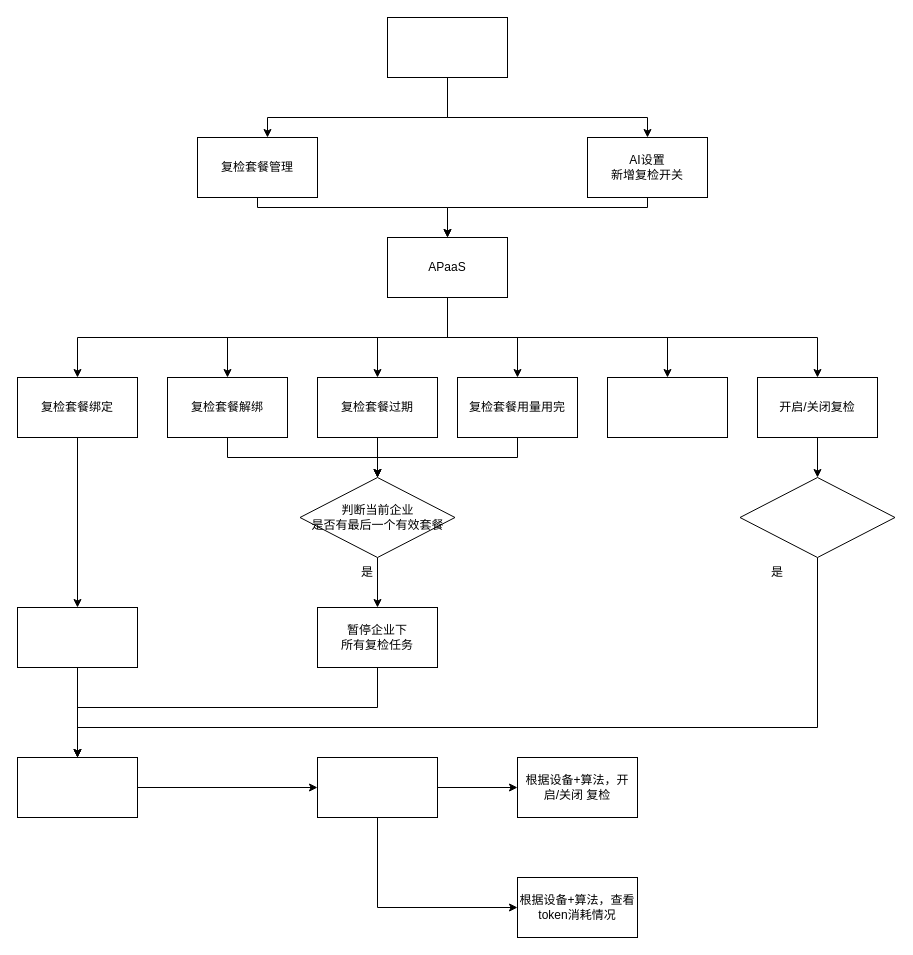
Some shapes in this 913 by 955 pixel diagram are drawn without their labels. The centre of each missing label's shape, as x and y in pixels:
"AI中心" belongs at [77,787].
"企业维度，统计当前企业下token消耗情况" belongs at [667,407].
"允许企业设备开启 大模型复检" belongs at [77,637].
"判断当前企业 是否有复检套餐" belongs at [817,517].
"千里眼WEB" belongs at [447,47].
"大模型复检任务" belongs at [377,787].
